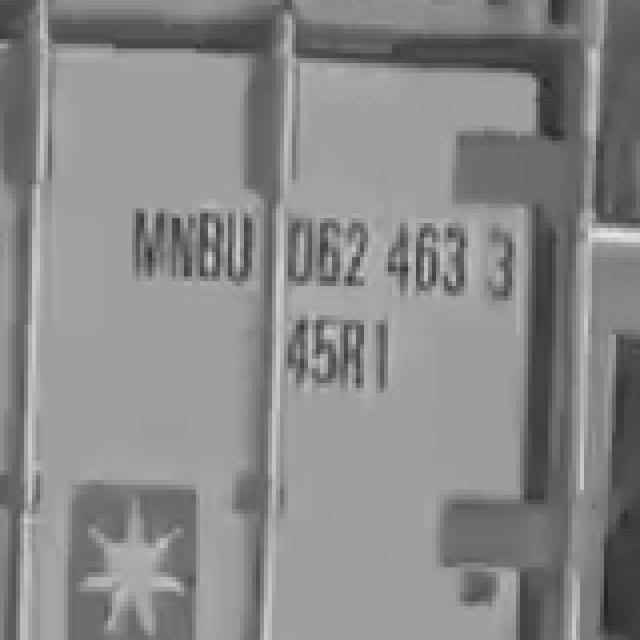dv: (474, 216, 528, 310)
owner: (114, 191, 256, 299)
serial: (281, 198, 466, 304)
size: (283, 310, 404, 410)
